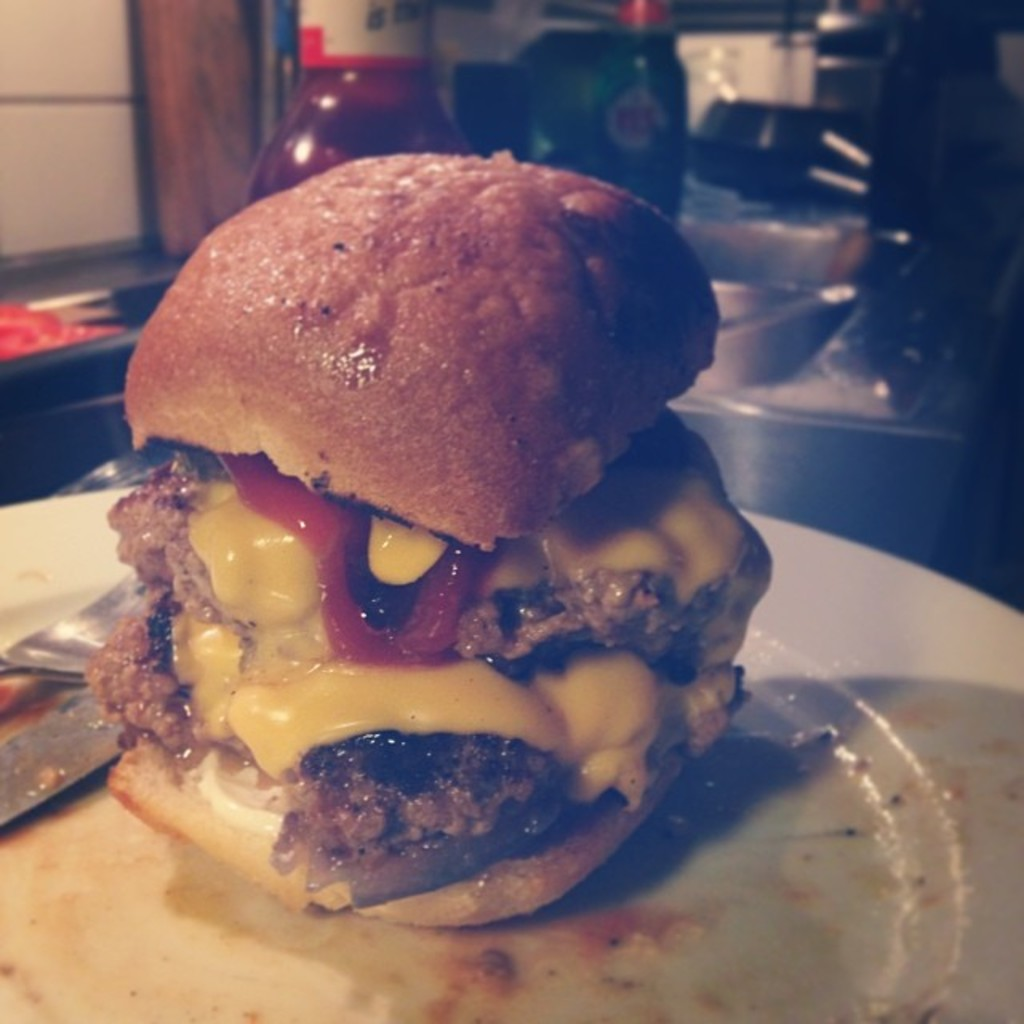Hamburger: (86, 148, 772, 931)
